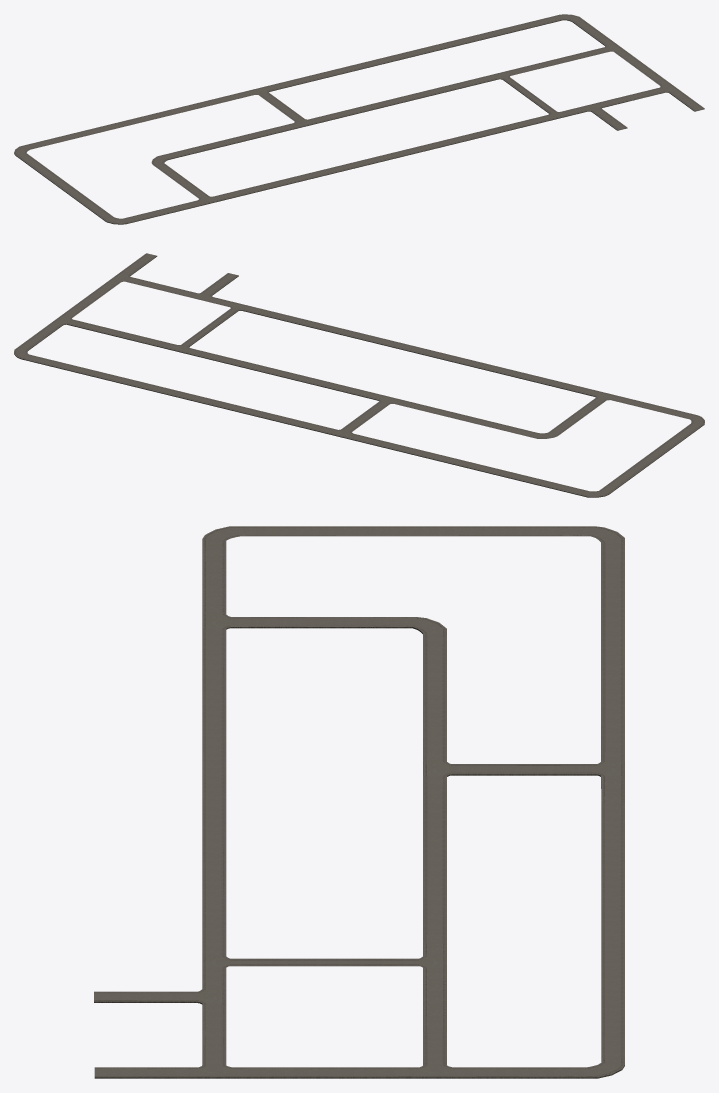
The model's file is road.obj.
3 views of the same model, one above another, from view 1: azimuth 30°, elevation 25°; view 2: azimuth 150°, elevation 25°; view 3: azimuth 270°, elevation 25° (orthographic). The views are drawn at different scales.
Parts seen in each view (by area): view 1: Object219; view 2: Object219; view 3: Object219.
Boxes of the visible parts, bbox=[...] form: Object219: bbox=[14, 14, 704, 224]; Object219: bbox=[14, 253, 704, 497]; Object219: bbox=[94, 526, 624, 1078].
Bounding box in the file's own units: 826 × 0.9036 × 337.
